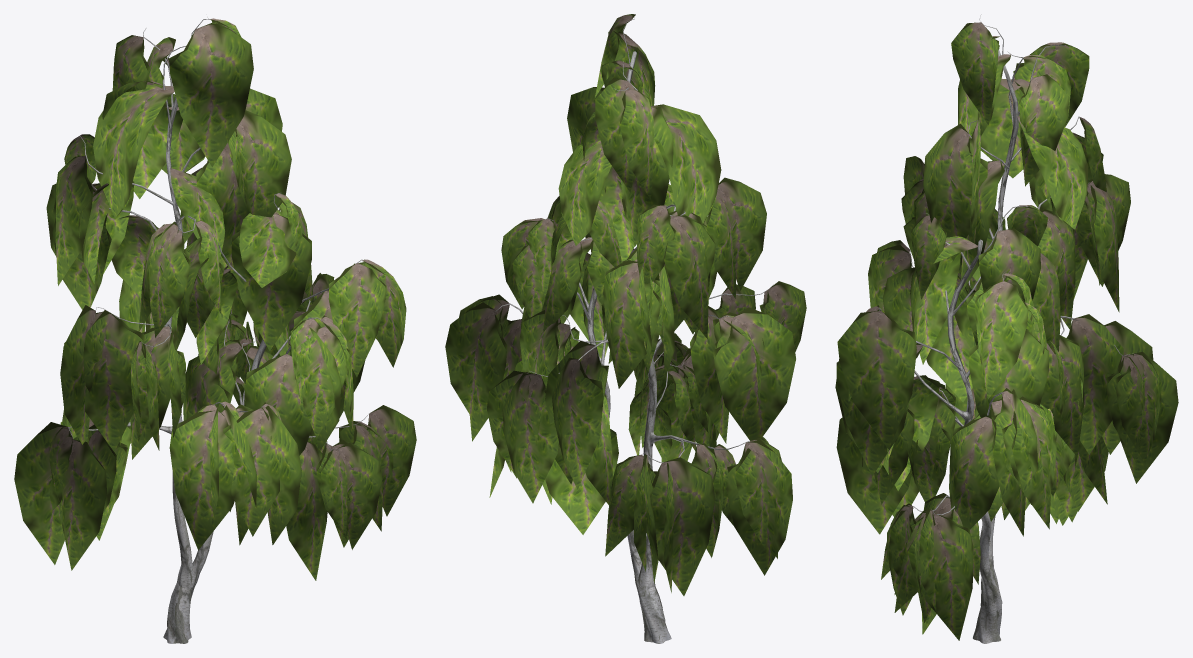
The model's file is birch.fbx.
3 renders of one model, left to right at view 1: azimuth 30°, elevation 25°; view 2: azimuth 150°, elevation 25°; view 3: azimuth 270°, elevation 25°, orthographic. The views are drawn at different scales.
Parts seen in each view (by area): view 1: Tree_1, Tree_0; view 2: Tree_1, Tree_0; view 3: Tree_1, Tree_0.
Boxes of the visible parts, left/top/right/bottom form: Tree_1: left=14, top=18, right=416, bottom=580; Tree_0: left=68, top=17, right=369, bottom=643; Tree_1: left=445, top=14, right=806, bottom=595; Tree_0: left=495, top=15, right=773, bottom=643; Tree_1: left=835, top=22, right=1178, bottom=640; Tree_0: left=879, top=14, right=1136, bottom=643.
Size of the model in its own units: 378 by 631 by 308.
2 materials, 2 textured.
